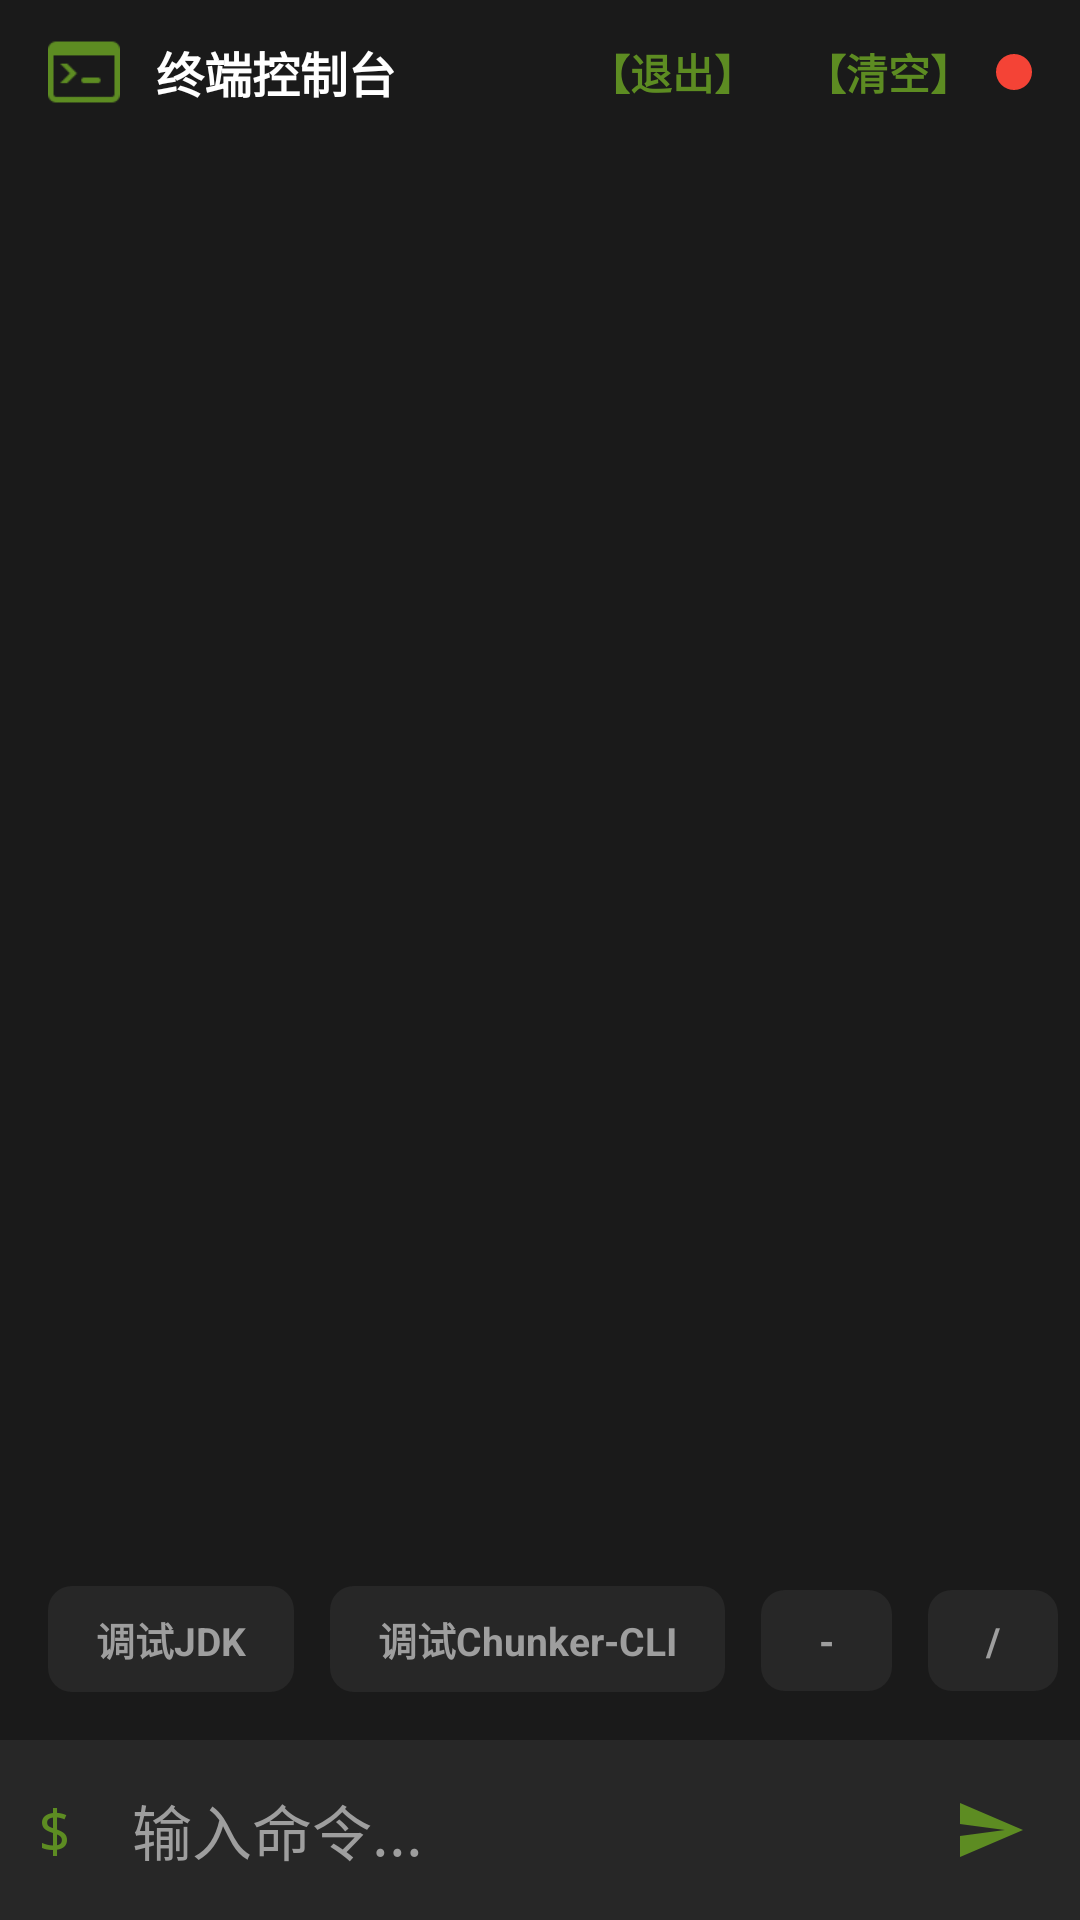

Icons on this 1080px×1920px Android screen, each with its box as (x1, y1, x2, y2):
send: (960, 1803, 1022, 1857)
terminal: (48, 41, 120, 103)
